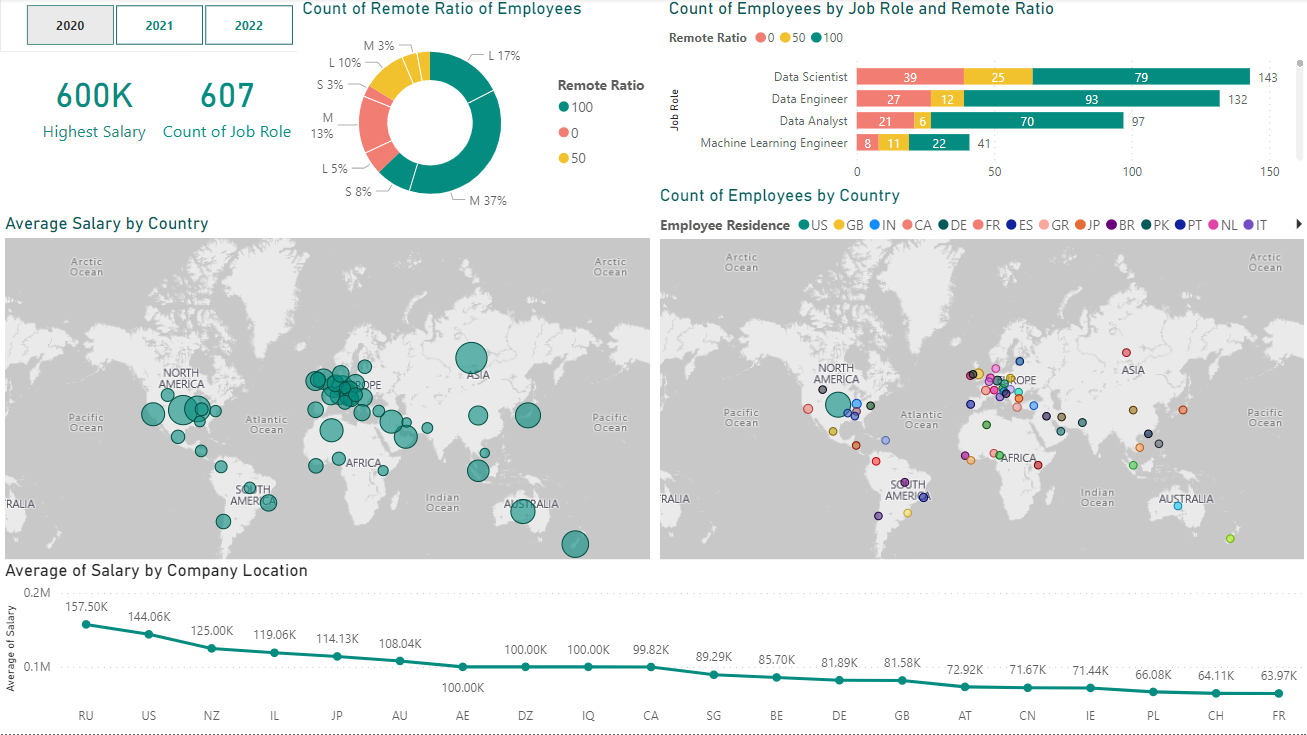

The dashboard page shown, as its layout file describes it:
{"tool":"powerbi","page":{"name":"Page 6","canvas":[1280,720],"ordinal":3},"visuals":[{"type":"slicer","fields":{"Values":["ds_salaries.work_year"]},"box":[0,0,310,52.9],"z":0},{"type":"barChart","title":"Count of Employees by Job Role and Remote Ratio","fields":{"Category":["ds_salaries.Job Role"],"Series":["ds_salaries.Remote Ratio"],"Y":["CountNonNull(ds_salaries.Job Role)"]},"box":[648.8,0,631.2,197.5],"z":1000},{"type":"map","title":"Average Salary by Country","fields":{"Category":["ds_salaries.company_location"],"Size":["Avg(ds_salaries.salary_in_usd)"]},"box":[0,210.8,640,446.7],"z":2000},{"type":"card","fields":{"Values":["Max(ds_salaries.salary_in_usd)"]},"box":[0,52.9,184.3,100],"z":3000},{"type":"donutChart","title":"Count of Remote Ratio of Employees","fields":{"Category":["ds_salaries.Remote Ratio"],"Series":["ds_salaries.Company Size"],"Y":["CountNonNull(ds_salaries.Company Size)"]},"box":[291.2,0,361.2,225],"z":4000},{"type":"map","title":"Count of Employees by Country","fields":{"Size":["CountNonNull(ds_salaries.job_title)"],"Category":["ds_salaries.employee_residence"],"Series":["ds_salaries.employee_residence"]},"box":[640,182.5,640,462.9],"z":5000},{"type":"card","fields":{"Values":["CountNonNull(ds_salaries.Job Role)"]},"box":[152.5,52.5,138.8,100],"z":6000},{"type":"lineChart","fields":{"Category":["ds_salaries.Company Location"],"Y":["Avg(ds_salaries.Salary)"]},"box":[0,548.8,1280,171.2],"z":7000}]}

Visuals, with their boxes in screenshot pixels (x1, y1, x2, y2), scaled from the page's 1280x720 canvas onto the 1307x735 screenshot:
slicer - ds_salaries.work_year: (0,0,317,54)
"Count of Employees by Job Role and Remote Ratio" barChart: (662,0,1306,202)
"Average Salary by Country" map: (0,215,654,671)
card - Max(ds_salaries.salary_in_usd): (0,54,188,156)
"Count of Remote Ratio of Employees" donutChart: (297,0,666,230)
"Count of Employees by Country" map: (654,186,1306,659)
card - CountNonNull(ds_salaries.Job Role): (156,54,297,156)
lineChart - ds_salaries.Company Location x Avg(ds_salaries.Salary): (0,560,1306,734)
